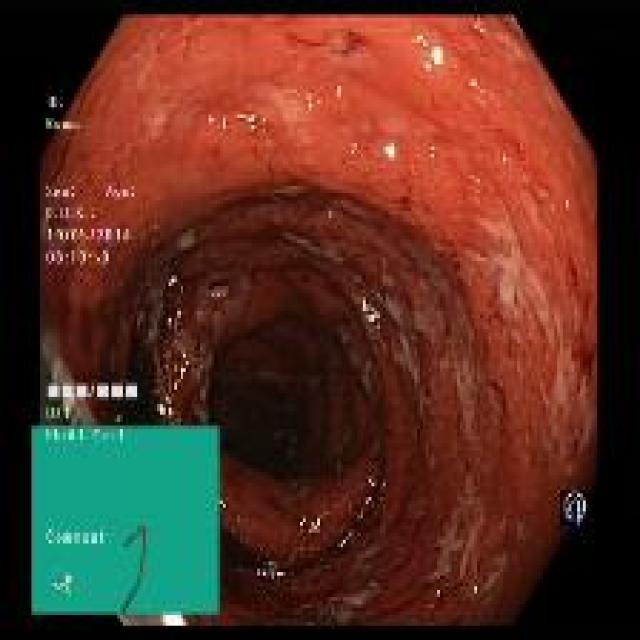ulcerative-colitis: (40, 17, 598, 624)
